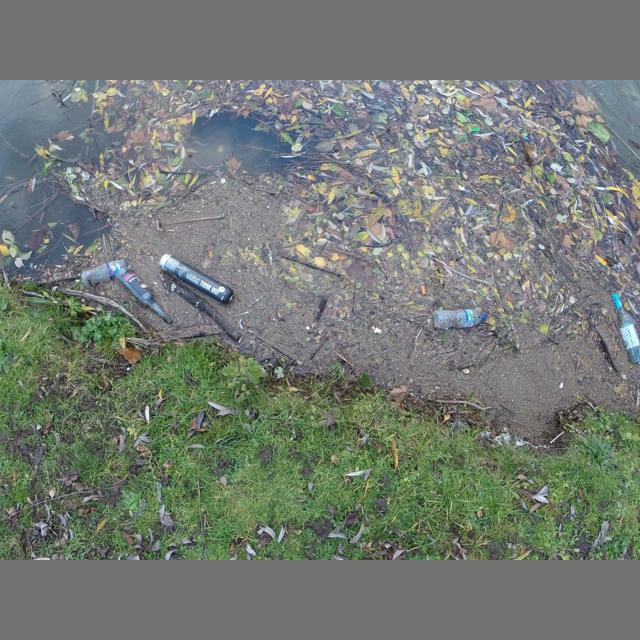litter: (159, 253, 234, 305), (115, 267, 172, 324), (611, 293, 640, 364), (81, 259, 128, 288), (433, 309, 486, 329)
